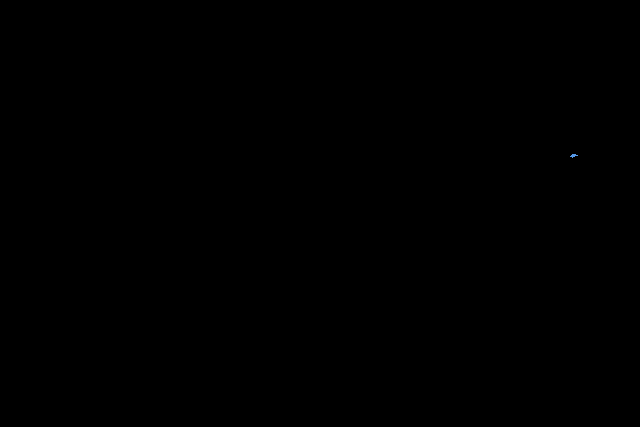Airplane: (570, 154, 577, 158)
